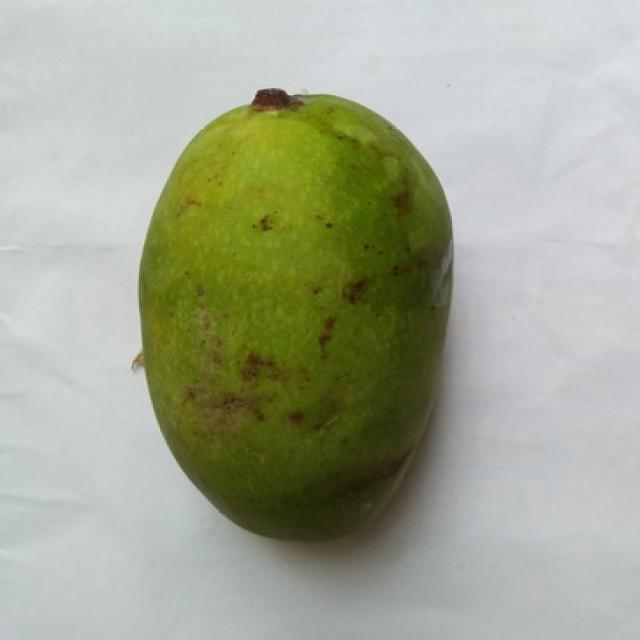Mango: (139, 92, 452, 540)
